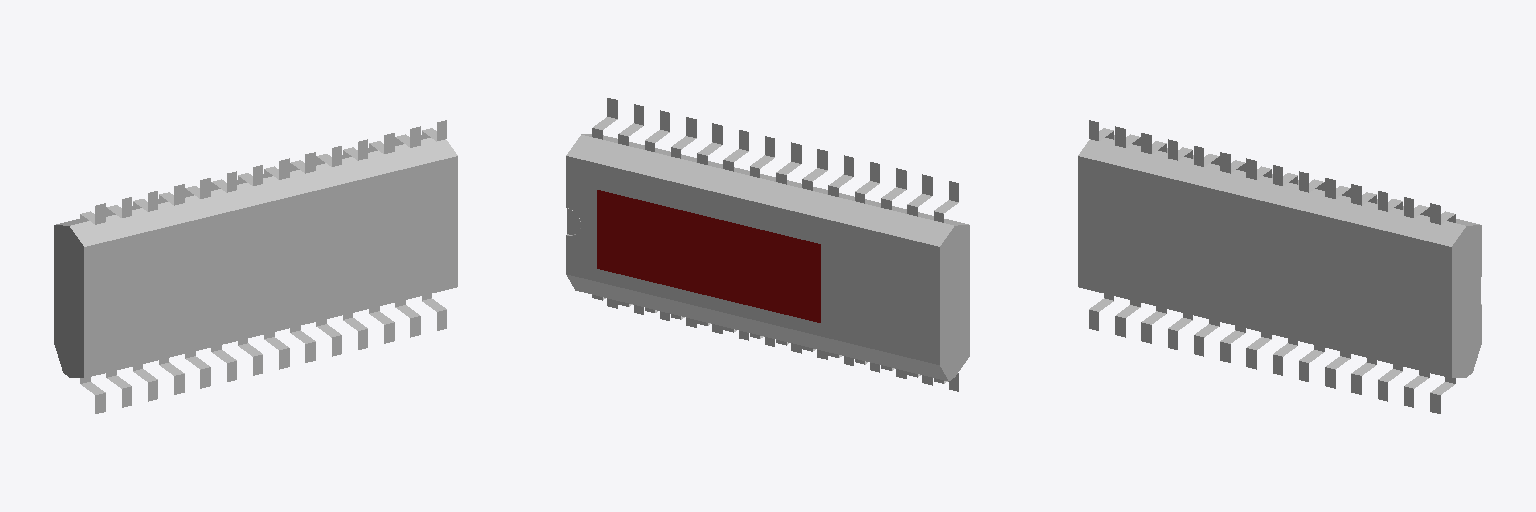
3 renders of one model, left to right at view 1: azimuth 30°, elevation 25°; view 2: azimuth 150°, elevation 25°; view 3: azimuth 330°, elevation 25°, orthographic.
Visible parts, largest first — view 1: ShapeIndexedFaceSet.028_ShapeIndexedFaceSet.029; view 2: ShapeIndexedFaceSet.028_ShapeIndexedFaceSet.029, ShapeIndexedFaceSet.030_ShapeIndexedFaceSet; view 3: ShapeIndexedFaceSet.028_ShapeIndexedFaceSet.029.
Boxes of the visible parts, box(x1,y1,x2,y2) form: ShapeIndexedFaceSet.028_ShapeIndexedFaceSet.029: box(54, 135, 457, 377); ShapeIndexedFaceSet.028_ShapeIndexedFaceSet.029: box(566, 134, 969, 381); ShapeIndexedFaceSet.030_ShapeIndexedFaceSet: box(597, 190, 820, 322); ShapeIndexedFaceSet.028_ShapeIndexedFaceSet.029: box(1078, 135, 1481, 377).
Bounding box in the file's own units: 18.08 × 9.65 × 2.56.